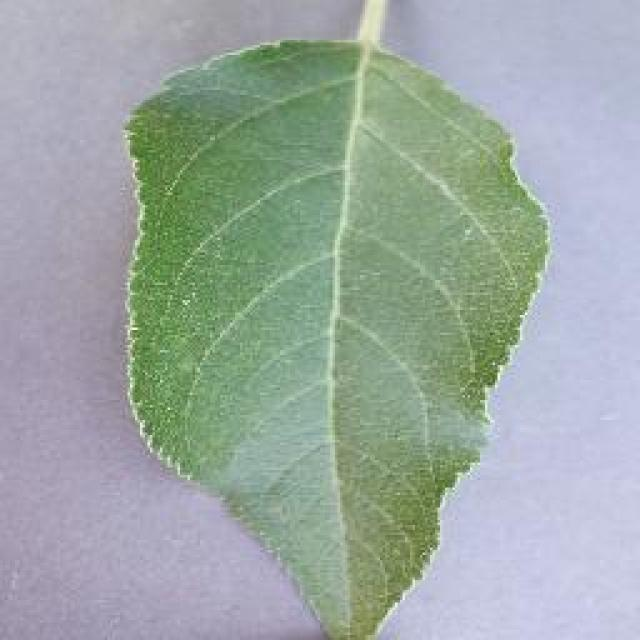apple healthy: (120, 0, 552, 638)
